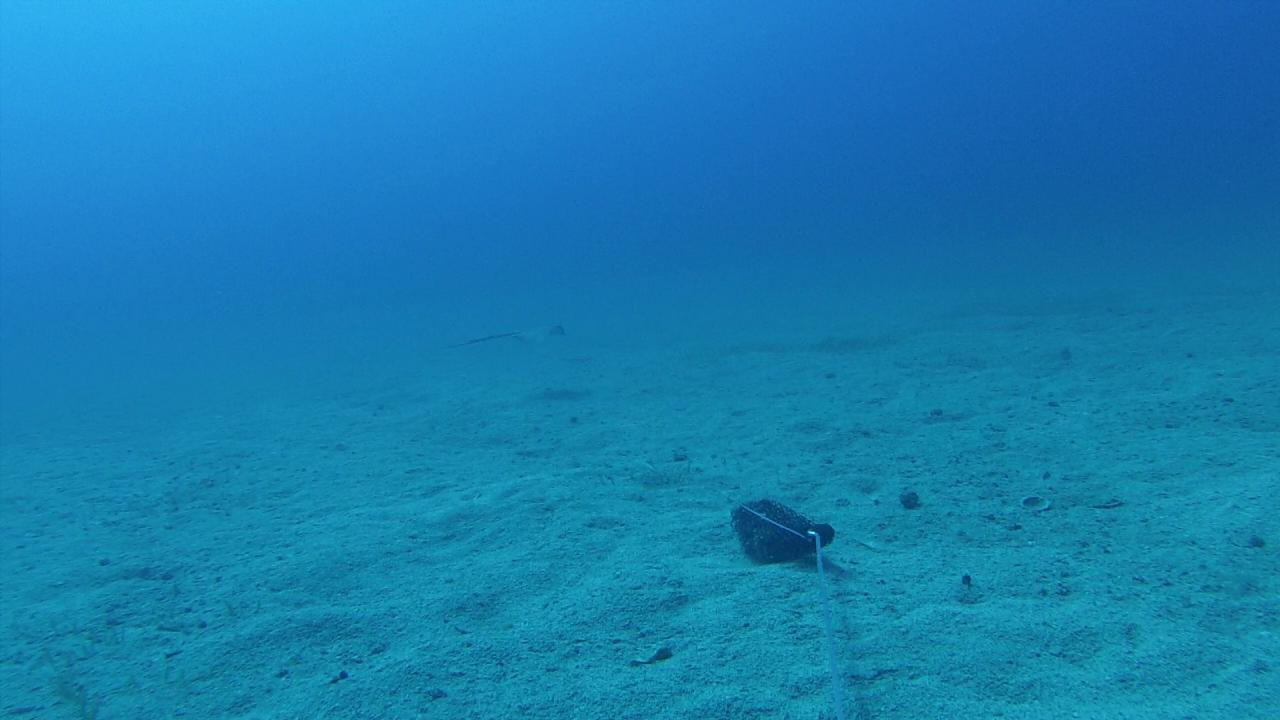dasyatis: (443, 322, 568, 350)
